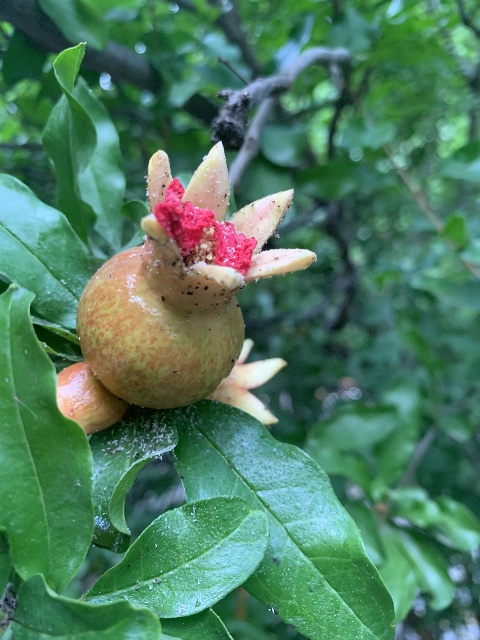bud: (55, 362, 127, 434)
early-fruit: (75, 141, 318, 417), (206, 336, 287, 426)
